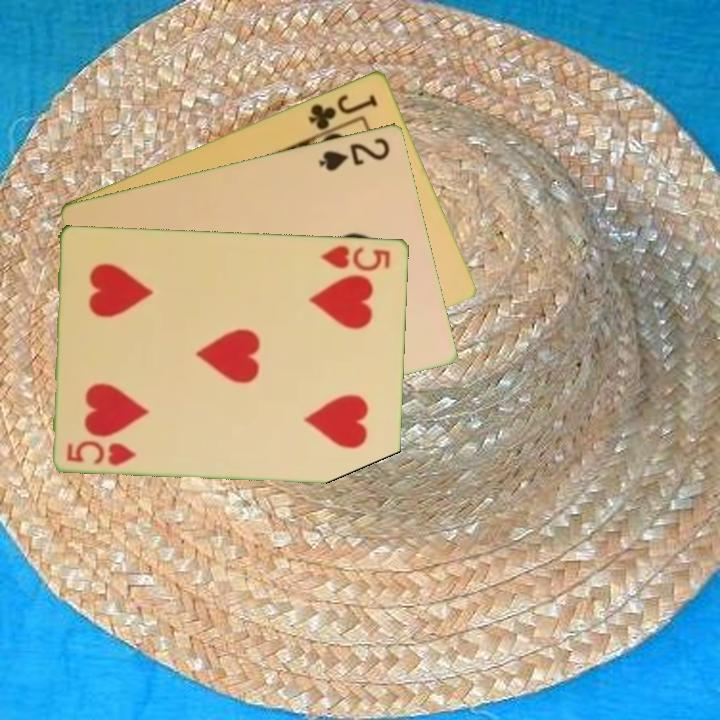2s: (315, 133, 393, 174)
5h: (317, 242, 393, 274), (64, 437, 140, 468)
Jc: (304, 90, 381, 133)
